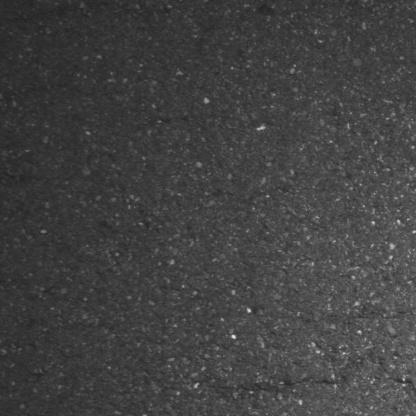Cracks: (181, 375, 345, 397), (368, 373, 416, 400)
